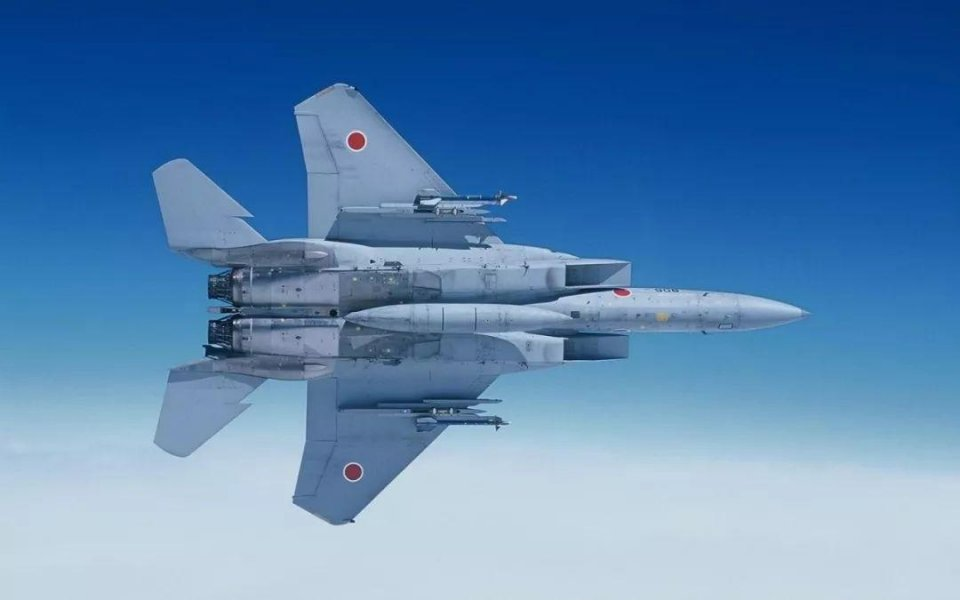airplane: (126, 81, 812, 528)
